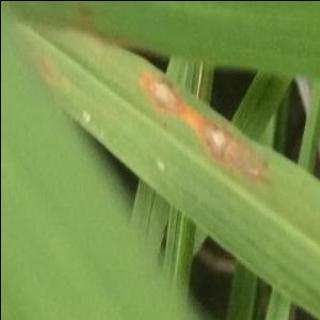Blast: (138, 70, 271, 183)
